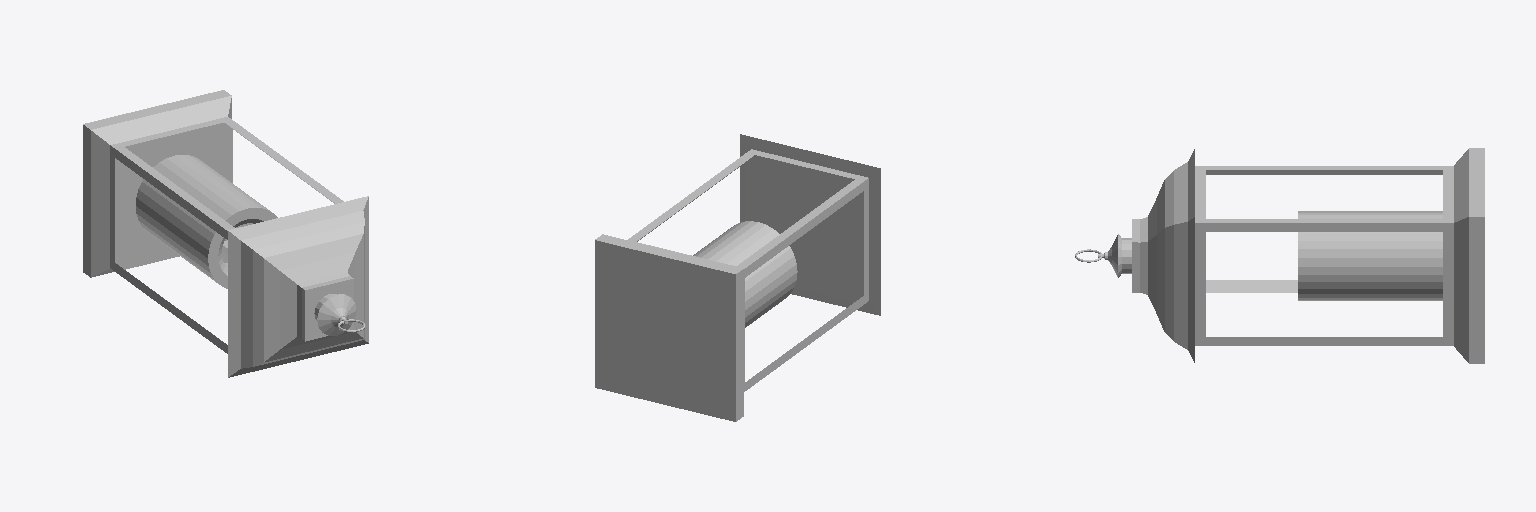
Rendered from Jack_lantern.obj.
3 renders of one model, left to right at view 1: azimuth 30°, elevation 25°; view 2: azimuth 150°, elevation 25°; view 3: azimuth 270°, elevation 25°, orthographic.
Visible parts, largest first — view 1: Cube_Cube.001; view 2: Cube_Cube.001; view 3: Cube_Cube.001.
Part boxes in pixels (left/top/right/bottom): Cube_Cube.001: left=83, top=90, right=368, bottom=377; Cube_Cube.001: left=595, top=134, right=880, bottom=421; Cube_Cube.001: left=1075, top=148, right=1484, bottom=363.
Size of the model in its own units: 240 by 240 by 605.